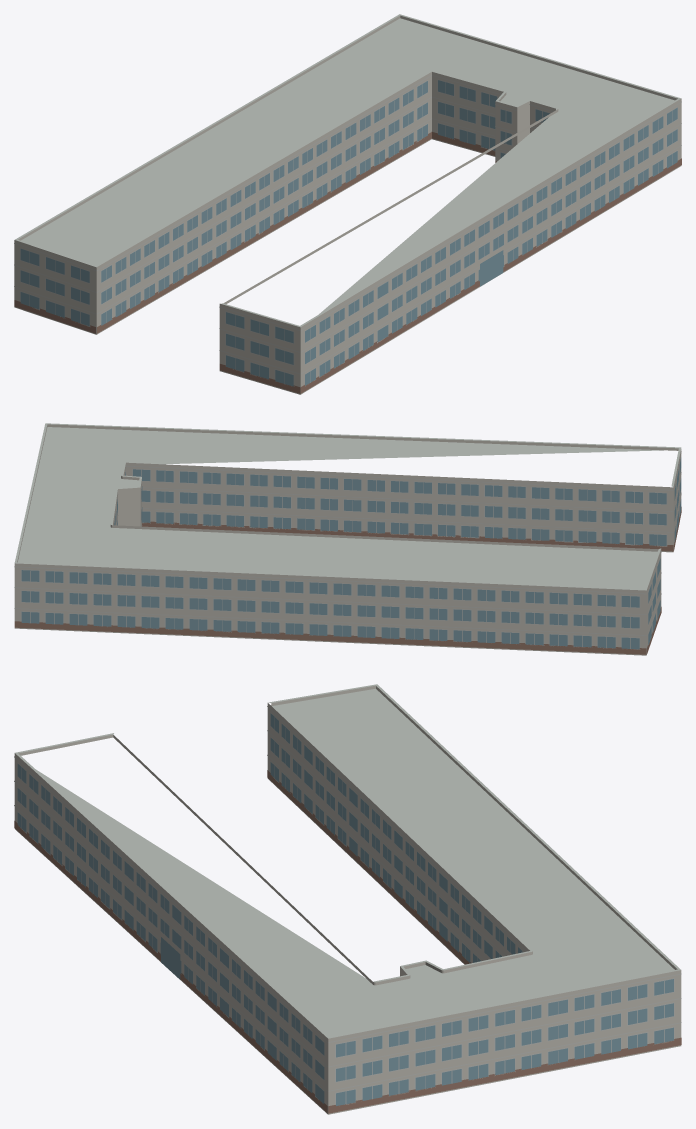
Rendered from public-f3f7673d-c2bd-4c48-aa09-6887b0abe736.glb.
The picture shows the model from 3 angles, top to bottom: view 1: azimuth 30°, elevation 25°; view 2: azimuth 150°, elevation 25°; view 3: azimuth 270°, elevation 25°; orthographic projection. The views are drawn at different scales.
Visible parts, largest first — view 1: public-f3f7673d-c2bd-4c48-aa09-6887b0abe736; view 2: public-f3f7673d-c2bd-4c48-aa09-6887b0abe736; view 3: public-f3f7673d-c2bd-4c48-aa09-6887b0abe736.
Boxes of the visible parts, left/top/right/bottom form: public-f3f7673d-c2bd-4c48-aa09-6887b0abe736: left=14, top=14, right=681, bottom=394; public-f3f7673d-c2bd-4c48-aa09-6887b0abe736: left=14, top=423, right=681, bottom=655; public-f3f7673d-c2bd-4c48-aa09-6887b0abe736: left=14, top=684, right=681, bottom=1114.
Bounding box in the file's own units: 91.58 × 9.15 × 72.82.
